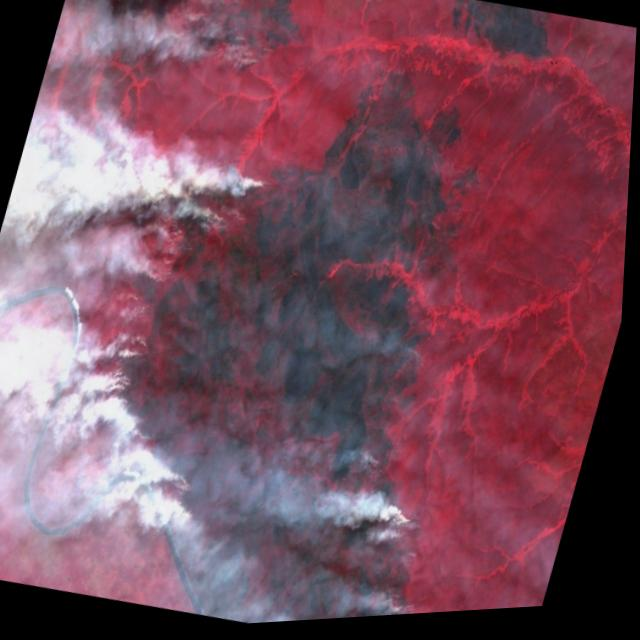fire: (46, 306, 255, 556), (349, 490, 448, 623), (188, 149, 282, 258), (176, 0, 290, 86)
